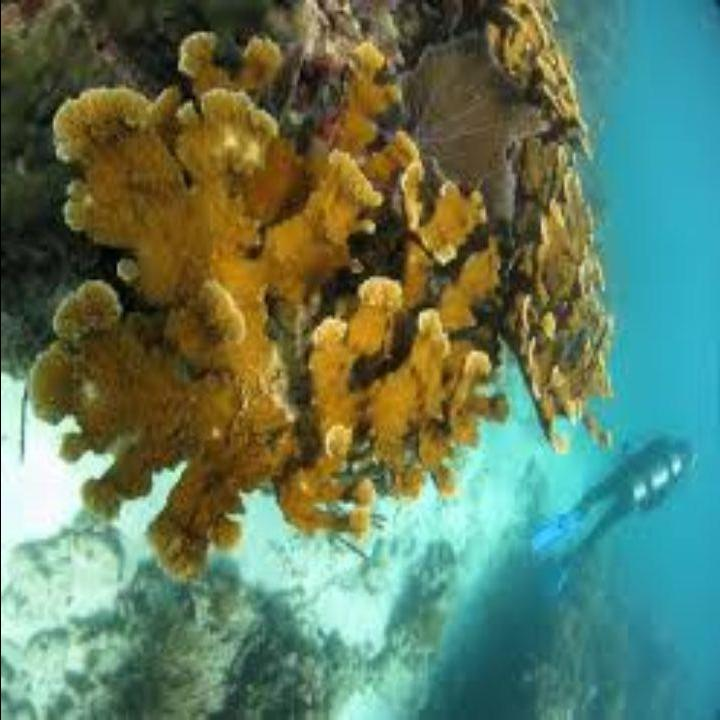White Pox Disease: (31, 97, 473, 565)
